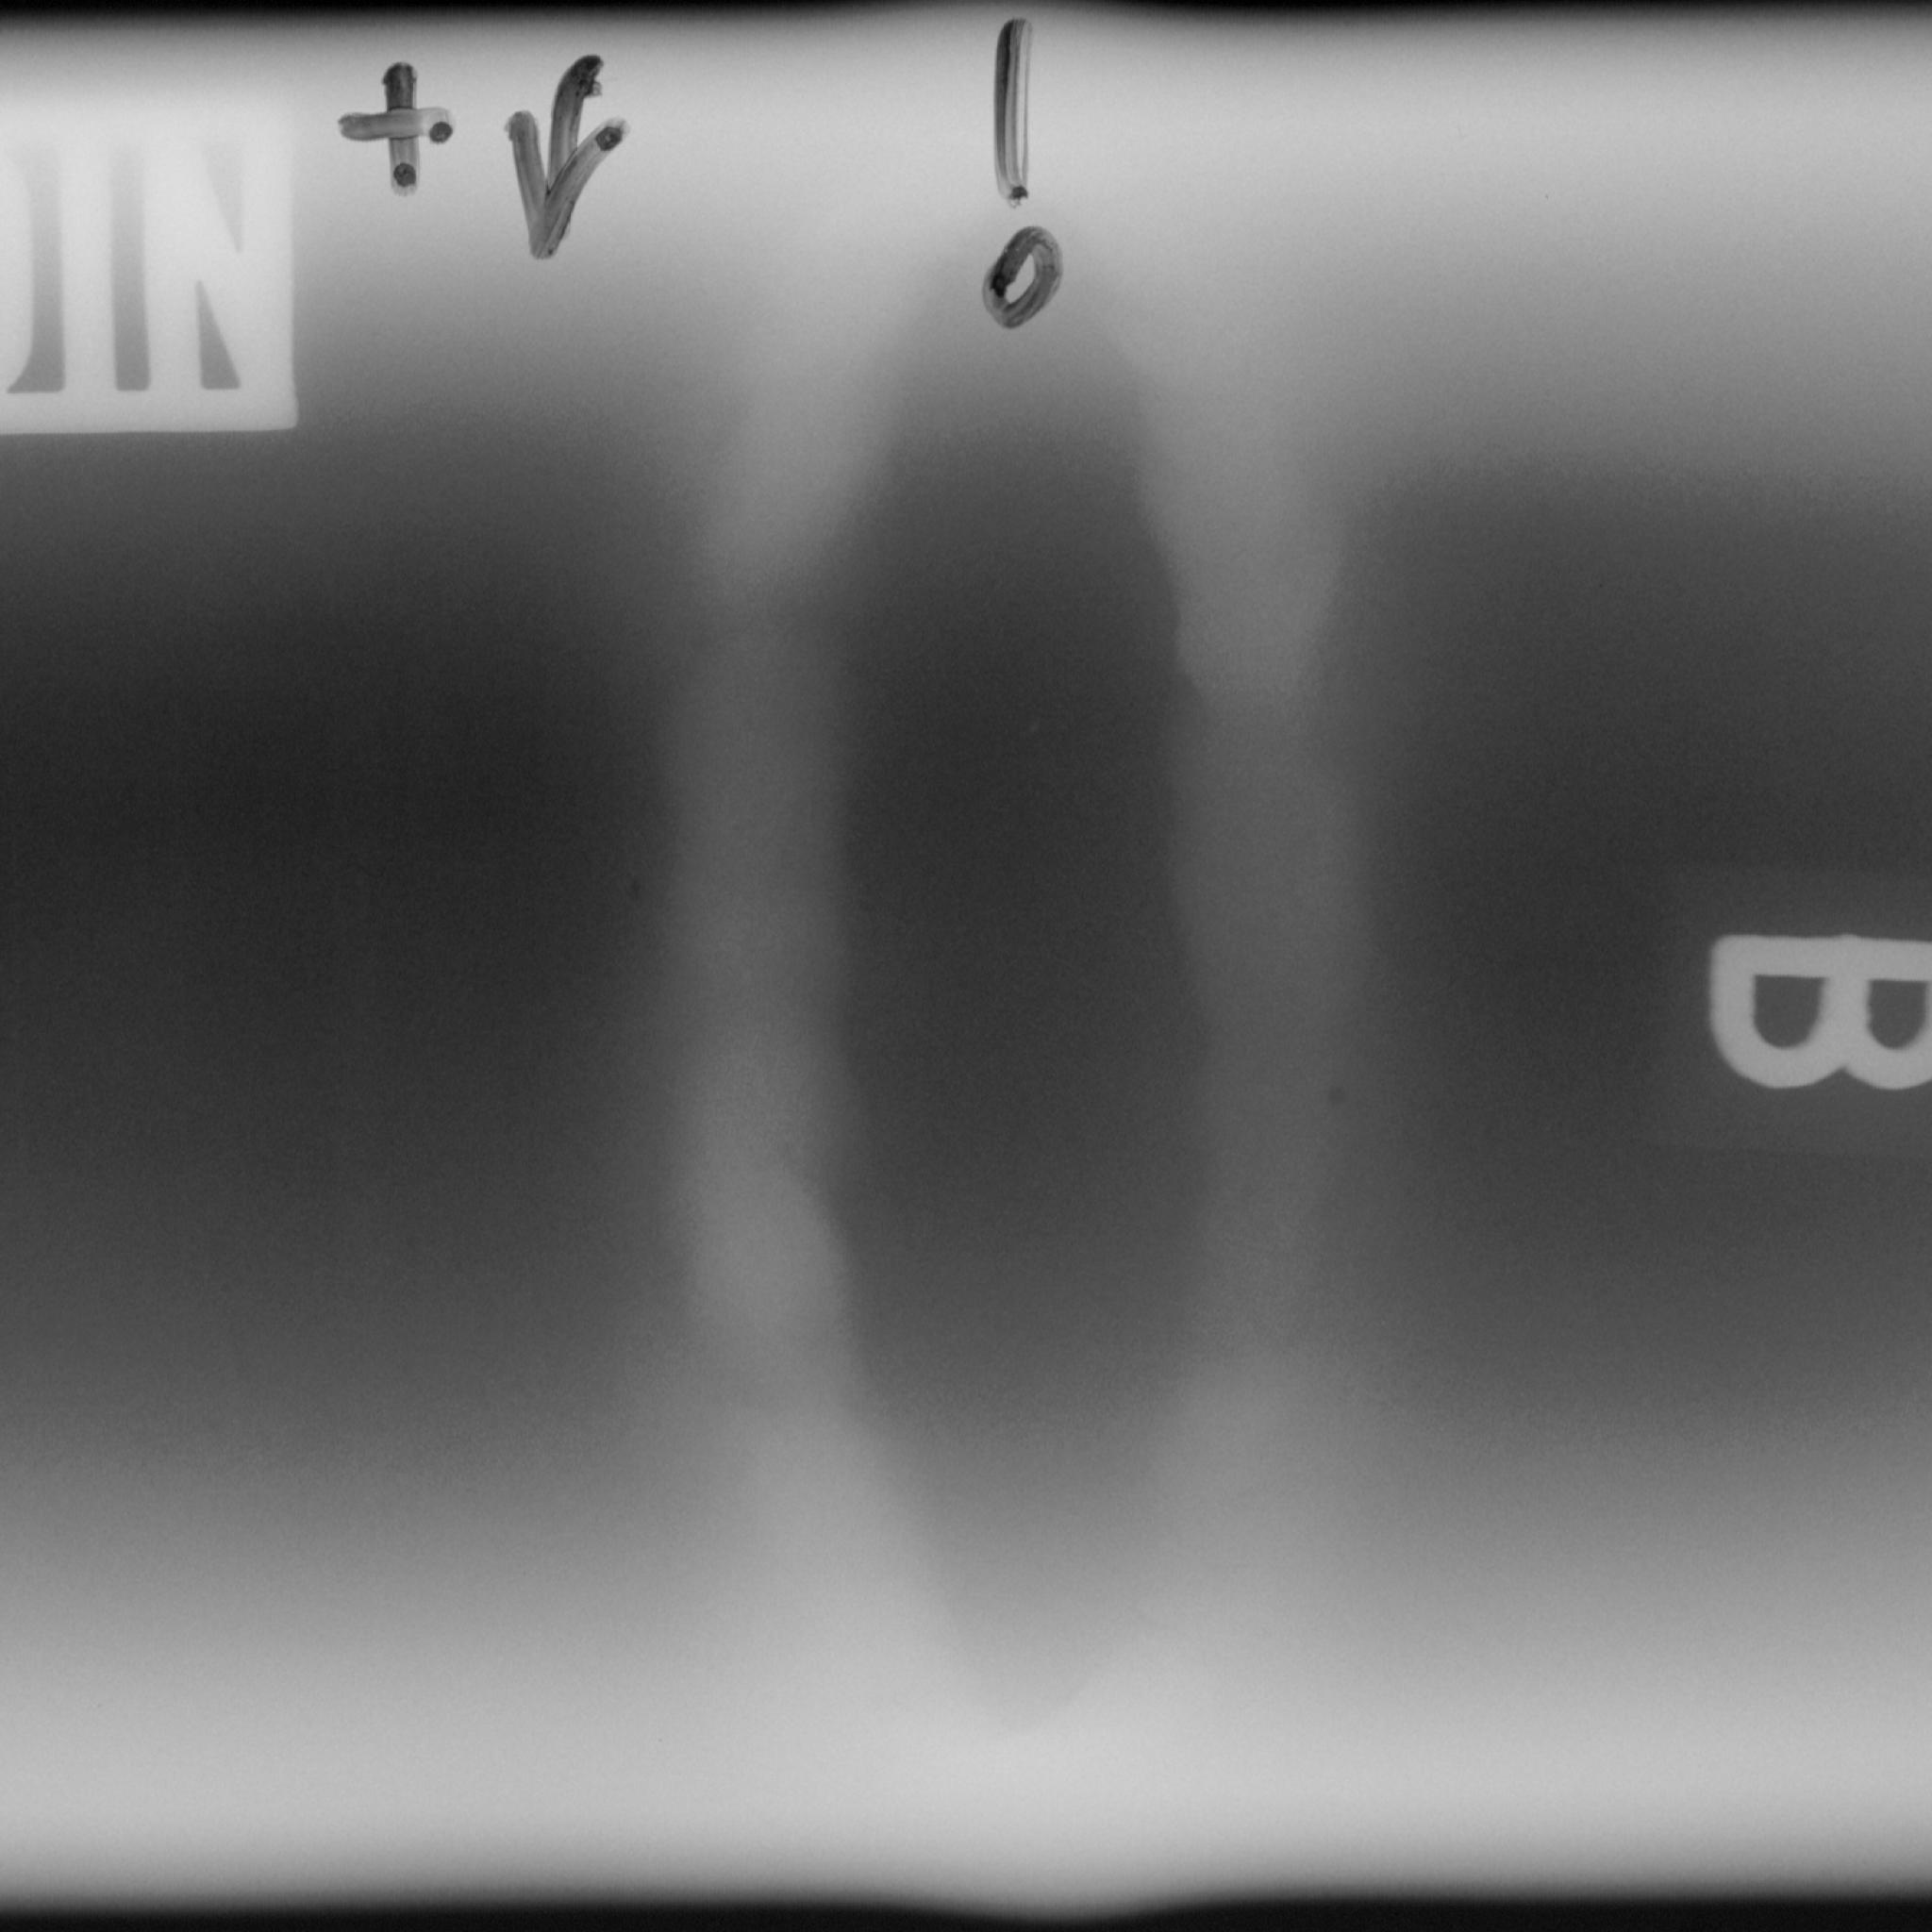FF: (753, 945, 904, 1262), (657, 537, 875, 706)
PO: (619, 870, 657, 917)
